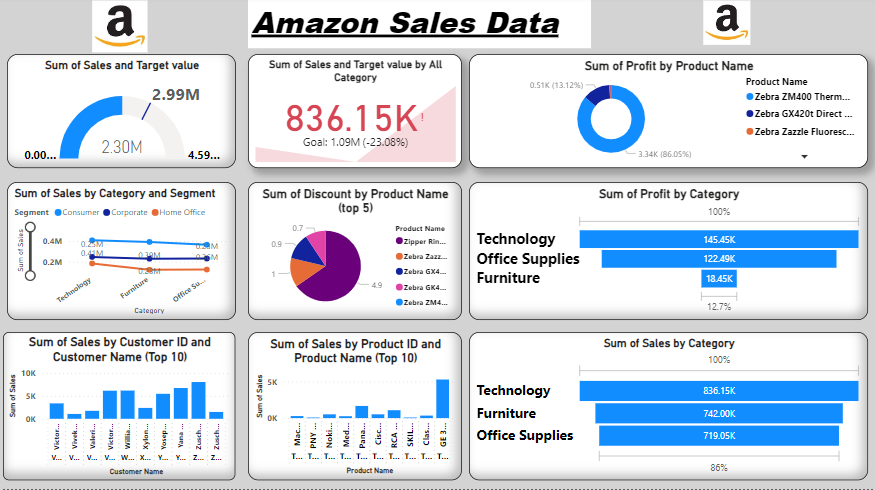

Layout of this report page (visuals, bound fields, positions):
{"tool":"powerbi","page":{"name":"Amazon Sales  analysis Report -2","canvas":[1280,720],"ordinal":1},"visuals":[{"type":"columnChart","title":"Sum of Sales by Customer ID and Customer Name (Top 10)","fields":{"Category":["Orders.Customer ID","Orders.Customer Name"],"Y":["Orders.Sales"]},"box":[5,490,340,217],"z":0},{"type":"columnChart","title":"Sum of Sales by Product ID and Product Name (Top 10)","fields":{"Category":["Orders.Product ID","Orders.Product Name"],"Y":["Orders.Sales"]},"box":[363,490,313,217],"z":1000},{"type":"lineChart","fields":{"Category":["Orders.Category"],"Y":["Orders.Sales"],"Series":["Orders.Segment"]},"box":[10,270,335,202],"z":2000},{"type":"pieChart","title":"Sum of Discount by Product Name (top 5)","fields":{"Category":["Orders.Product Name"],"Y":["Orders.Discount"]},"box":[363,270,313,202],"z":3000},{"type":"gauge","title":"Sum of Sales and Target value","fields":{"Y":["Orders.Sales"],"TargetValue":["Orders.target value"]},"box":[10,84,335,167],"z":4000},{"type":"kpi","title":"Sum of Sales and Target value by All Category","fields":{"Indicator":["Orders.Sales"],"Goal":["Orders.target value"],"TrendLine":["Orders.Category"]},"box":[363,84,313,167],"z":5000},{"type":"funnel","fields":{"Category":["Orders.Category"],"Y":["Orders.Sales"]},"box":[686,490,584,217],"z":6000},{"type":"funnel","fields":{"Category":["Orders.Category"],"Y":["Orders.Profit"]},"box":[686,270,584,202],"z":7000},{"type":"donutChart","fields":{"Y":["Orders.Profit"],"Category":["Orders.Product Name"]},"box":[686,84,584,167],"z":8000},{"type":"textbox","box":[363,0,502,75],"z":9000},{"type":"image","box":[25,0,300,86],"z":10000},{"type":"image","box":[913,0,300,75],"z":11000}]}

Visuals, with their boxes in screenshot pixels (x1, y1, x2, y2), scaled from the page's 1280x720 canvas onto the 875x490 screenshot:
"Sum of Sales by Customer ID and Customer Name (Top 10)" columnChart: locate(3, 333, 236, 481)
"Sum of Sales by Product ID and Product Name (Top 10)" columnChart: locate(248, 333, 462, 481)
lineChart - Orders.Category x Orders.Sales: locate(7, 184, 236, 321)
"Sum of Discount by Product Name (top 5)" pieChart: locate(248, 184, 462, 321)
"Sum of Sales and Target value" gauge: locate(7, 57, 236, 171)
"Sum of Sales and Target value by All Category" kpi: locate(248, 57, 462, 171)
funnel - Orders.Category x Orders.Sales: locate(469, 333, 868, 481)
funnel - Orders.Category x Orders.Profit: locate(469, 184, 868, 321)
donutChart - Orders.Profit x Orders.Product Name: locate(469, 57, 868, 171)
textbox: locate(248, 0, 591, 51)
image: locate(17, 0, 222, 59)
image: locate(624, 0, 829, 51)
